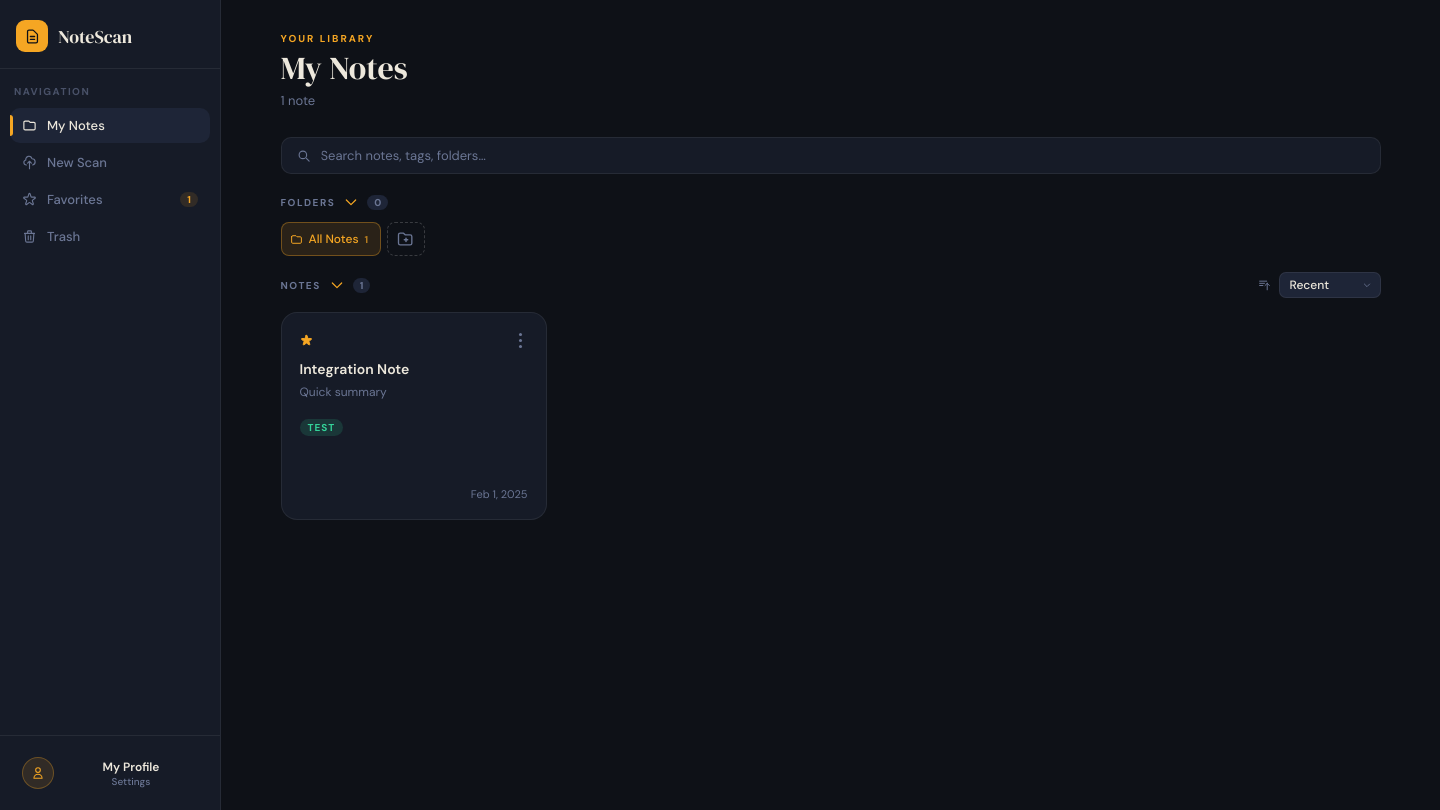
Test: Dashboard Integration › Favorites ↔ Notes › unfavoriting a note removes it from Favorites tab
The image size is (1440, 810).
Go to Favorites tab
Click the button "Favorites 1". click: (110, 200)
box: [10,182,210,217]
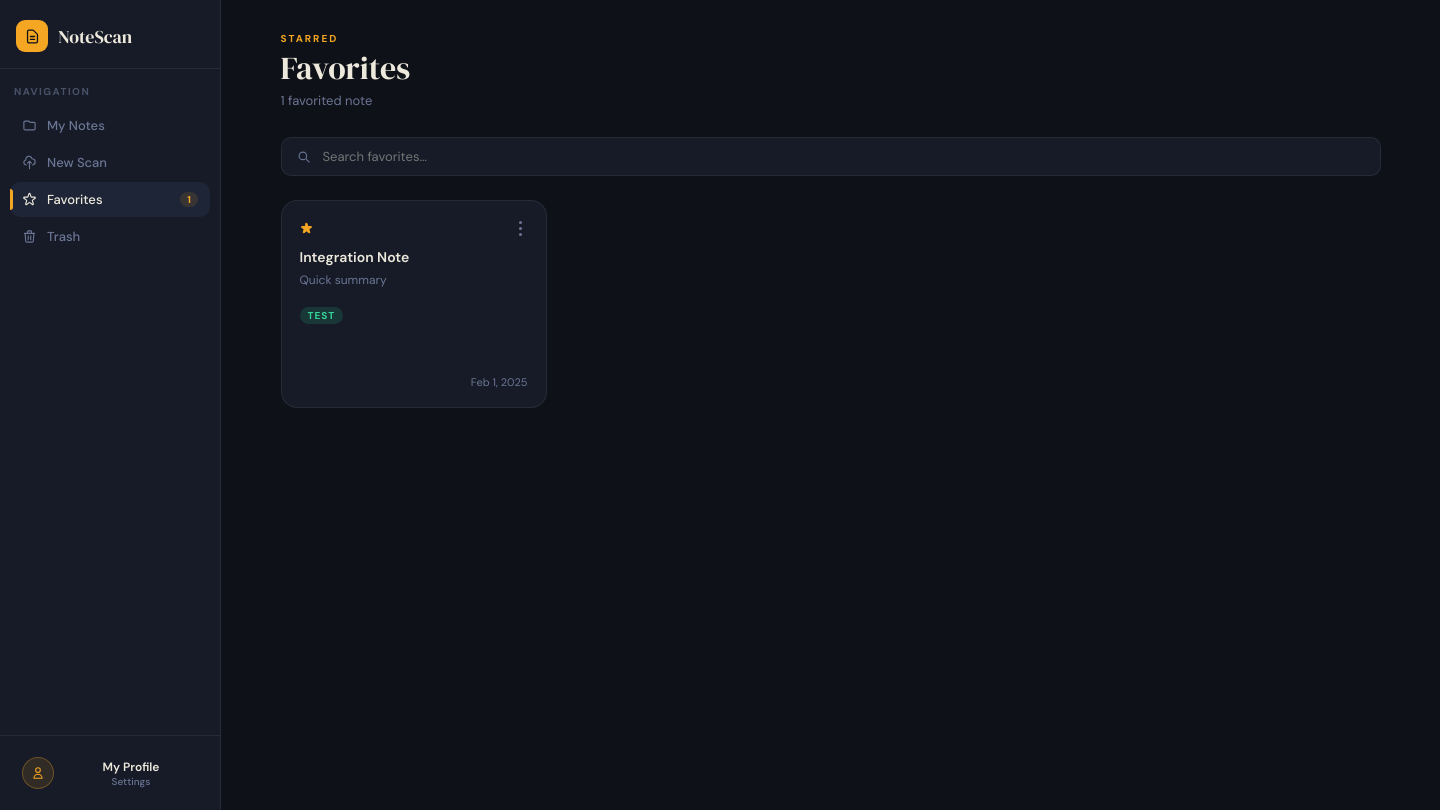
Expected: the text "Integration Note" is shown, [300,248,409,266]
Open 3-dot menu on the note card and click Remove from favorites
Click the 6th button. click: (520, 229)
box: [512,219,528,238]
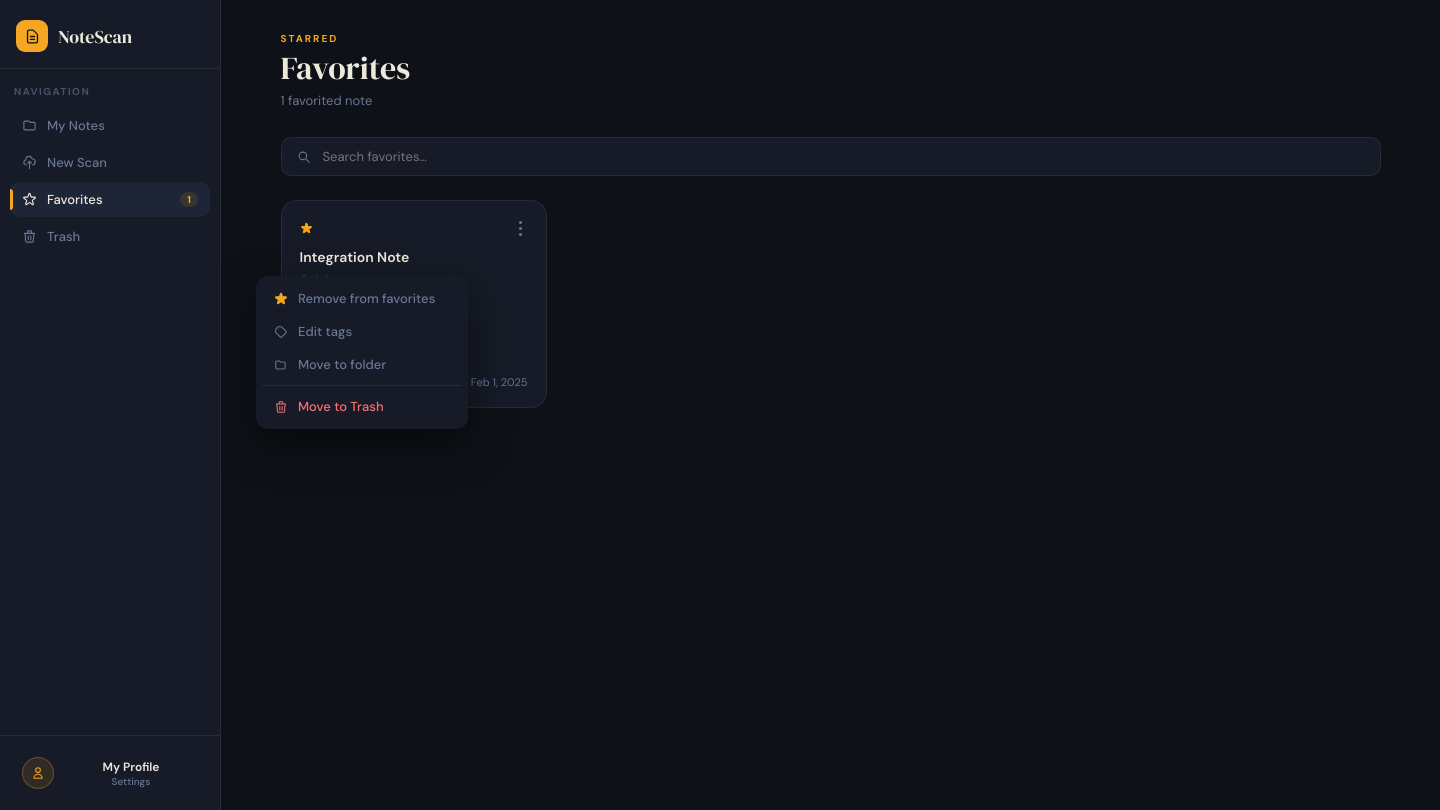
Click the button "Remove from favorites". click: (362, 299)
box: [262,282,462,315]
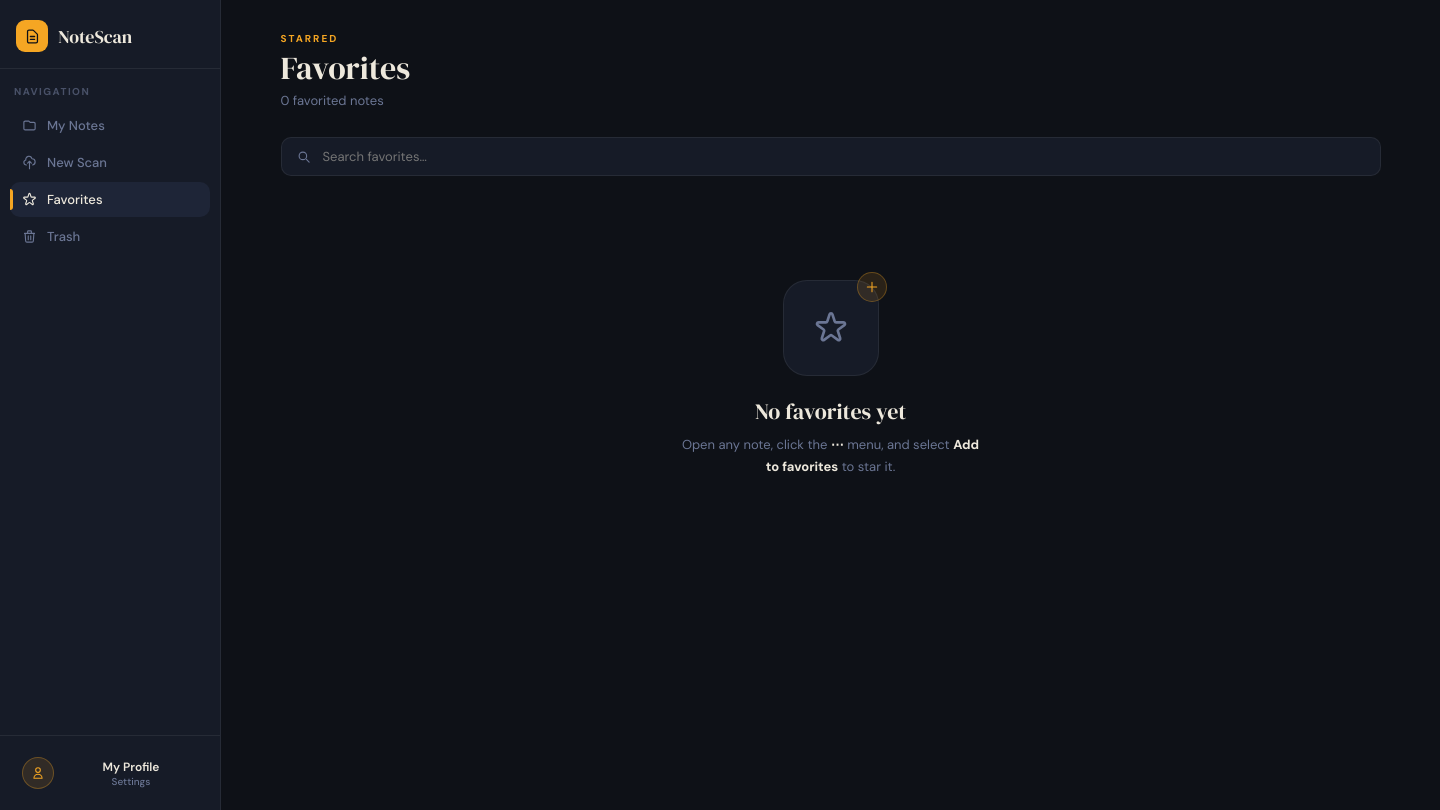
Expected: the text "Integration Note" is gone
